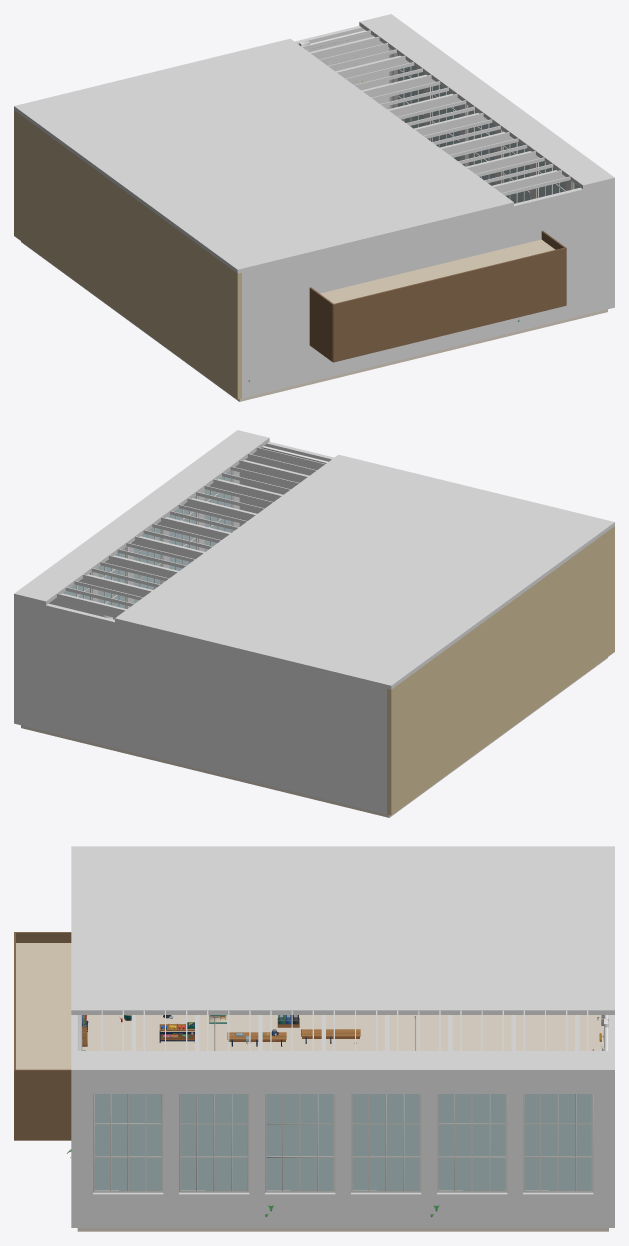
The model's file is harbourside.glb.
3 renders of one model, top to bottom at view 1: azimuth 30°, elevation 25°; view 2: azimuth 150°, elevation 25°; view 3: azimuth 270°, elevation 25°, orthographic. The views are drawn at different scales.
Visible parts, largest first — view 1: ShadowOnly, S_tile_plaster, NearWall, S_glow, S_matte, S_glass, S_tile_deck_tile, S_satin, S_tile_wall_cream; view 2: ShadowOnly, S_tile_plaster, NearWall, S_glass, S_tile_deck_tile, S_satin, S_tile_wall_cream; view 3: ShadowOnly, S_tile_plaster, S_glass, S_tile_deck_tile, S_satin, S_matte, S_glow.
Part boxes in pixels (box(x1,y1,x2,y2)): ShadowOnly: box(14, 14, 614, 273); S_tile_plaster: box(242, 25, 614, 398); NearWall: box(14, 110, 241, 399); S_glow: box(309, 230, 566, 362); S_matte: box(320, 239, 555, 303); S_glass: box(397, 54, 579, 203); S_tile_deck_tile: box(21, 241, 607, 401); S_satin: box(362, 53, 574, 202); S_tile_wall_cream: box(299, 41, 572, 199); ShadowOnly: box(14, 430, 614, 689); S_tile_plaster: box(14, 441, 386, 814); NearWall: box(387, 526, 614, 815); S_glass: box(63, 470, 231, 608); S_tile_deck_tile: box(21, 657, 607, 817); S_satin: box(63, 470, 232, 608); S_tile_wall_cream: box(62, 471, 239, 619); ShadowOnly: box(71, 846, 614, 1074); S_tile_plaster: box(71, 1015, 614, 1227); S_glass: box(95, 1040, 591, 1190); S_tile_deck_tile: box(77, 1015, 608, 1231); S_satin: box(82, 1015, 603, 1192); S_matte: box(16, 943, 603, 1069); S_glow: box(14, 932, 71, 1140).
Size of the model in its own units: 30.42 by 11.75 by 34.16.
